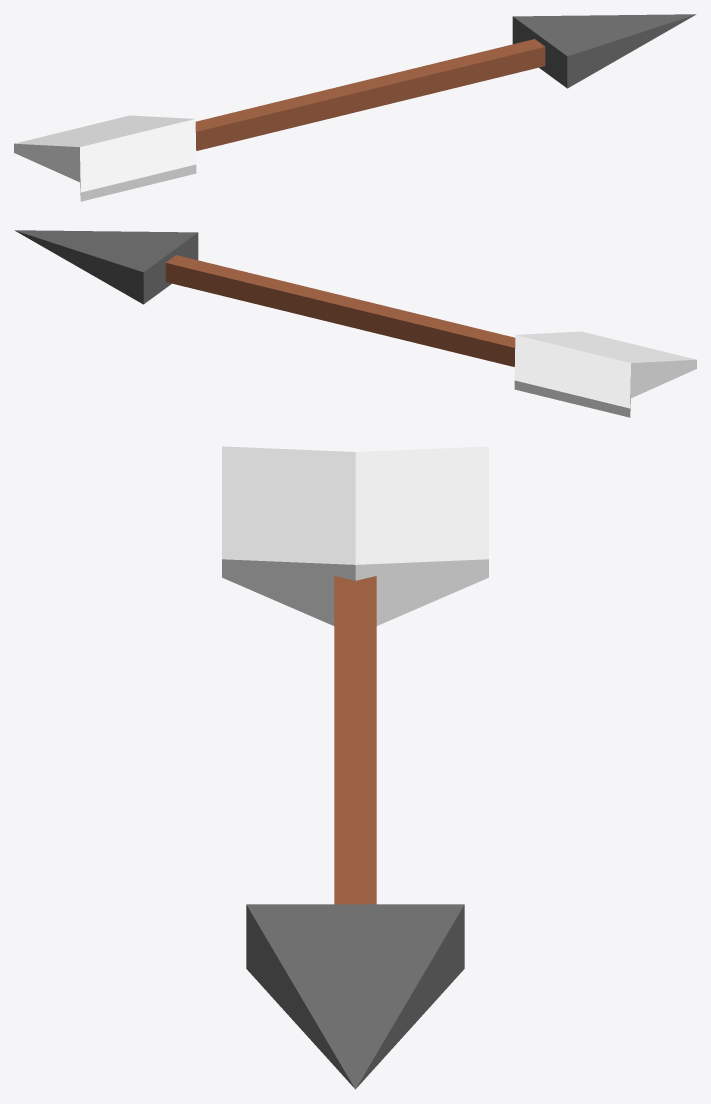
The model's file is Arrow.fbx.
The picture shows the model from 3 angles, top to bottom: view 1: azimuth 30°, elevation 25°; view 2: azimuth 150°, elevation 25°; view 3: azimuth 270°, elevation 25°; orthographic projection. The views are drawn at different scales.
Parts seen in each view (by area): view 1: Cube, Cube.002, Cube.001; view 2: Cube, Cube.002, Cube.001; view 3: Cube.002, Cube.001, Cube.
Part boxes in pixels (<box>): Cube: <box>195,39,545,150</box>; Cube.002: <box>14,115,196,201</box>; Cube.001: <box>512,14,696,88</box>; Cube: <box>165,255,515,366</box>; Cube.002: <box>514,331,696,417</box>; Cube.001: <box>14,230,198,304</box>; Cube.002: <box>222,446,488,625</box>; Cube.001: <box>246,904,464,1089</box>; Cube: <box>334,576,376,904</box>.
Bounding box in the file's own units: 46.46 × 2.41 × 8.27.
